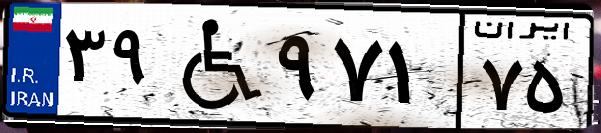1: (385, 28, 445, 110)
3: (57, 26, 110, 100)
5: (525, 38, 570, 115)
7: (330, 28, 385, 110), (475, 38, 525, 113)
9: (270, 28, 330, 110), (110, 28, 158, 98)
ژ (معلولین و جانبازان): (158, 12, 270, 120)
